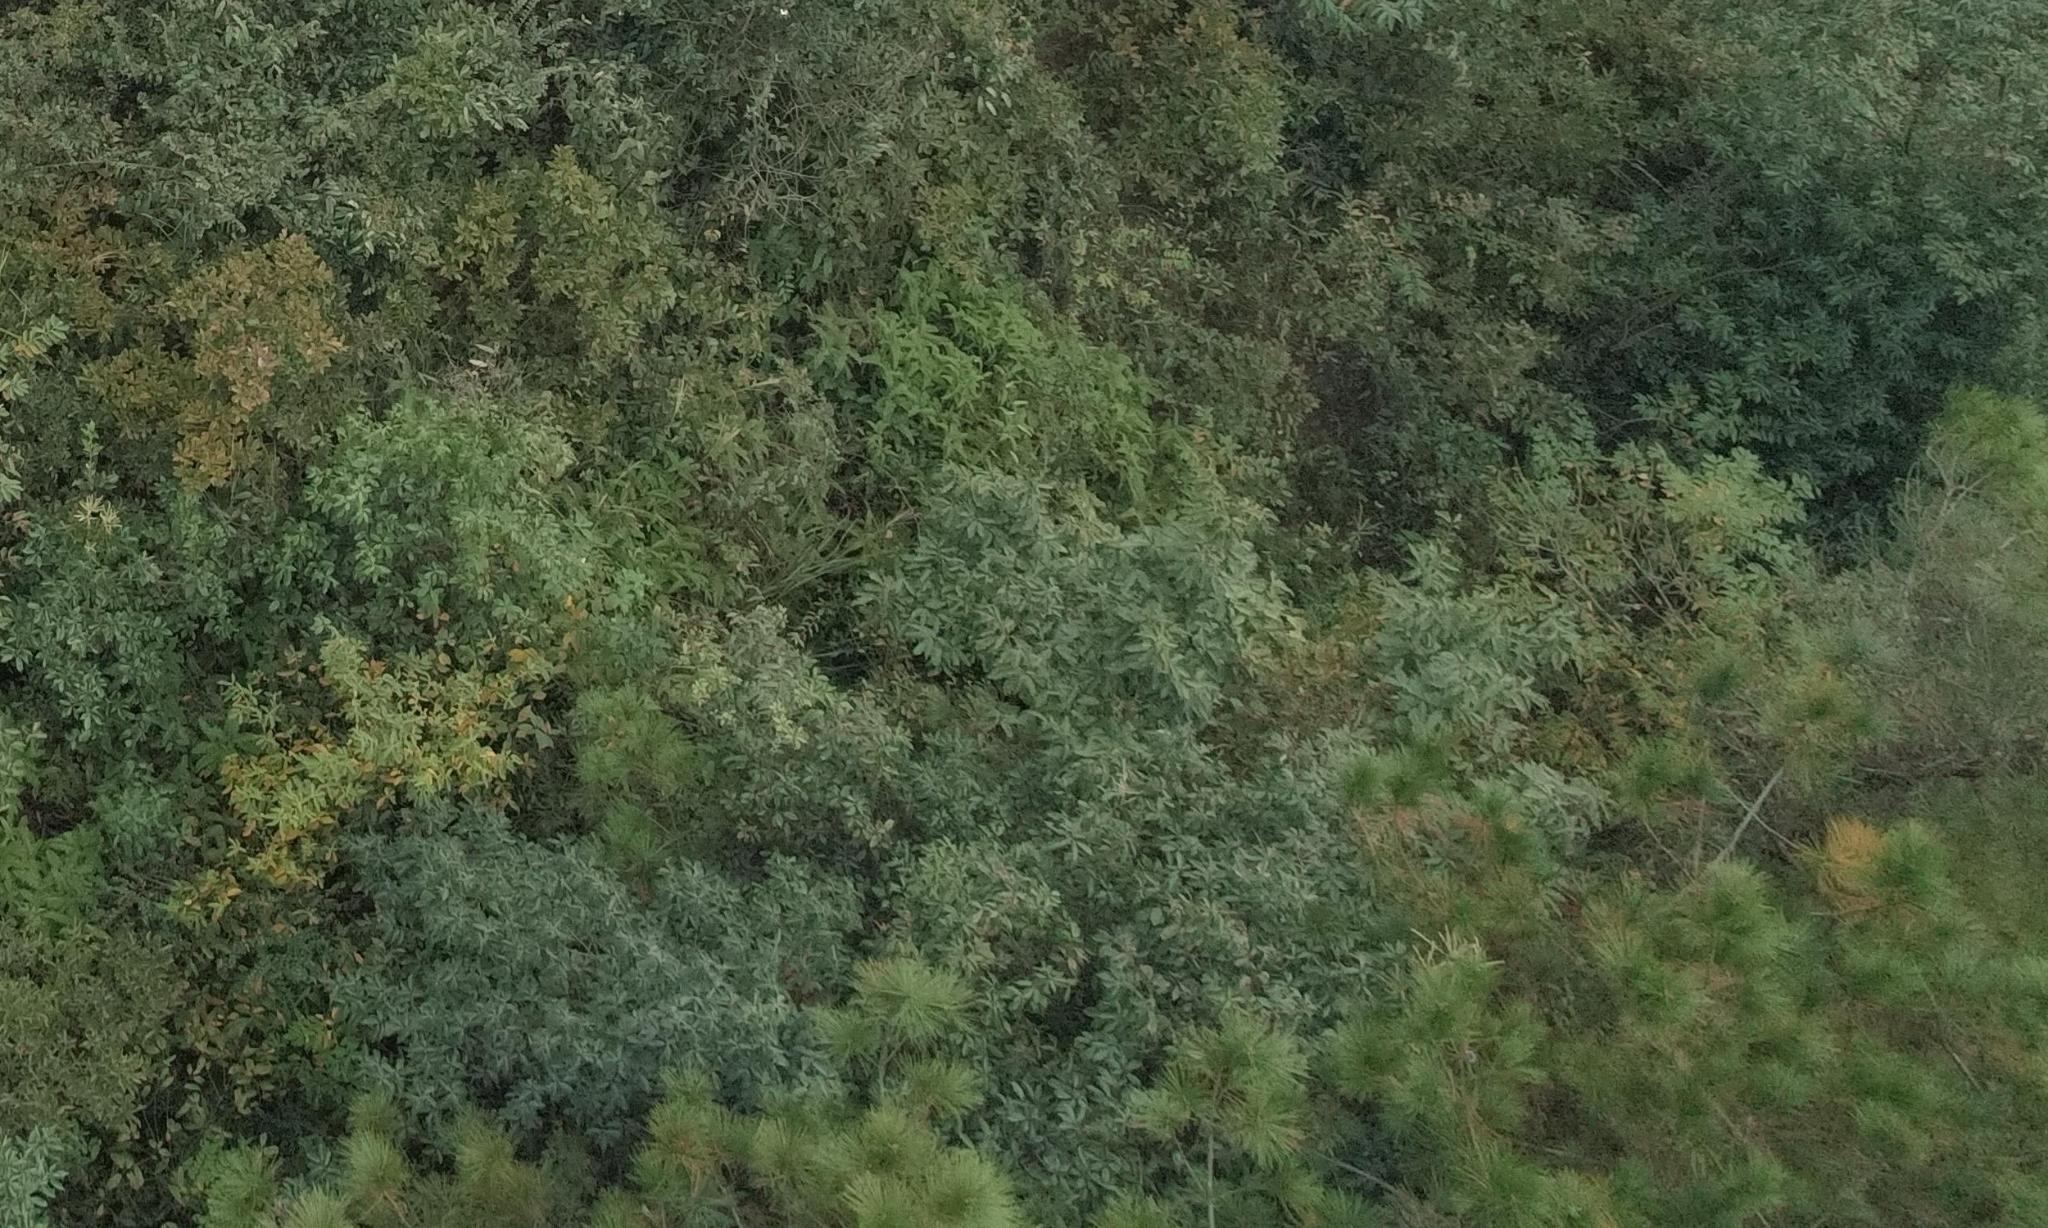light: (1576, 791, 1947, 1113)
